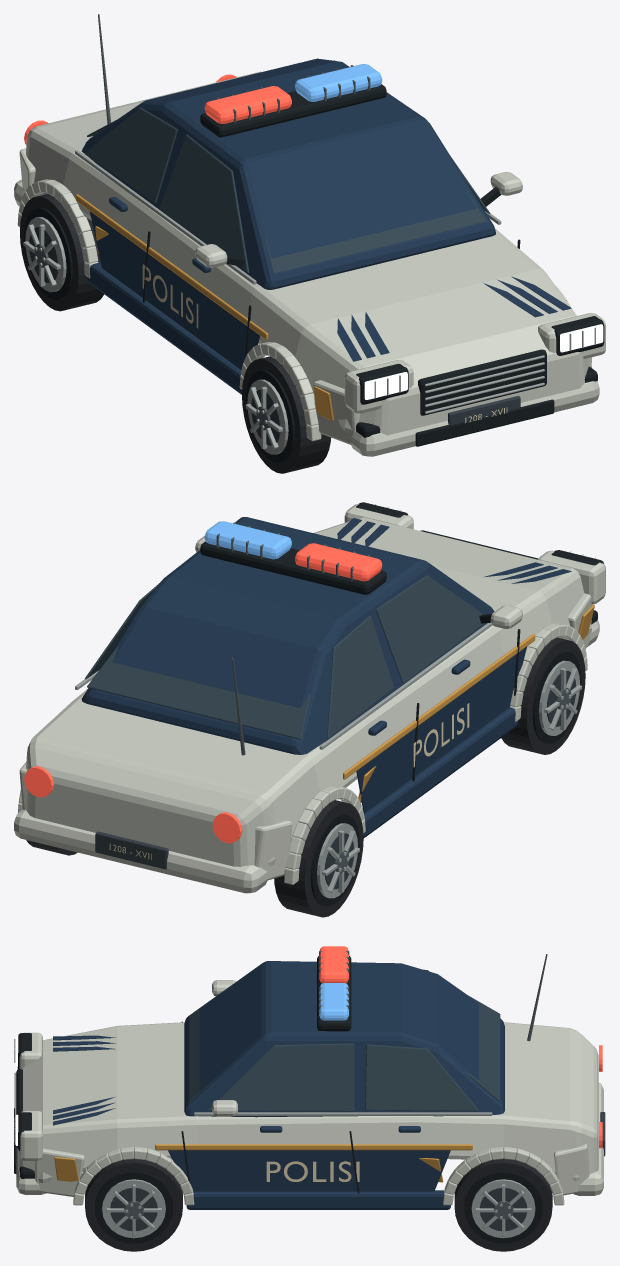
File: SedanPatroli.fbx
The picture shows the model from 3 angles, top to bottom: view 1: azimuth 30°, elevation 25°; view 2: azimuth 150°, elevation 25°; view 3: azimuth 270°, elevation 25°; orthographic projection. The views are drawn at different scales.
Visible parts, largest first — view 1: SedanPatroli; view 2: SedanPatroli; view 3: SedanPatroli.
Boxes of the visible parts, x1,y1,x2,y2 form: SedanPatroli: (14,14,605,473); SedanPatroli: (14,502,605,917); SedanPatroli: (14,946,605,1251).
Bounding box in the file's own units: 217 × 170 × 423.
